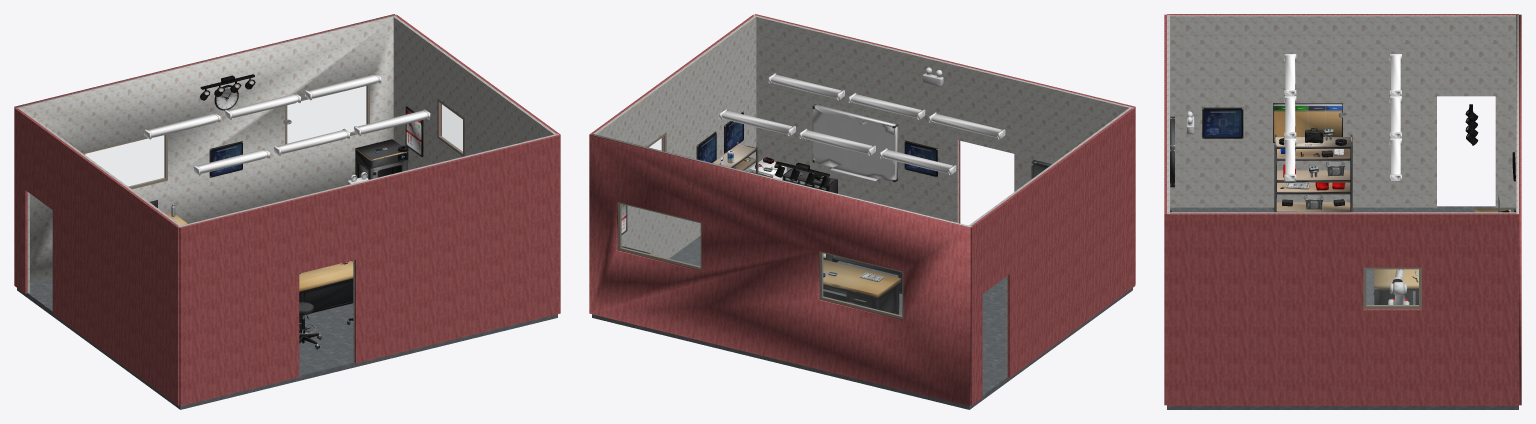
Rendered from scene_named.glb.
The picture shows the model from 3 angles, left to right: view 1: azimuth 30°, elevation 25°; view 2: azimuth 150°, elevation 25°; view 3: azimuth 270°, elevation 25°; orthographic projection. The views are drawn at different scales.
Visible parts, largest first — view 1: south_wall_exterior_lab/south_wall_exterior_lab/geometry_0, north_wall_lab/north_wall_lab/geometry_0, west_wall_exterior_lab/west_wall_exterior_lab/geometry_0, east_wall_lab/east_wall_lab/geometry_0, floor_lab, window_2_lab/window_2_lab/glass, window_1_lab/window_1_lab/glass, workbench_1, 3d_printer_cabinet_0, south_wall_lab/south_wall_lab/geometry_0, west_wall_lab/west_wall_lab/geometry_0, window_3_lab/window_3_lab/glass (+13 smaller); view 2: north_wall_exterior_lab/north_wall_exterior_lab/geometry_0, south_wall_lab/south_wall_lab/geometry_0, west_wall_exterior_lab/west_wall_exterior_lab/geometry_0, east_wall_lab/east_wall_lab/geometry_0, floor_lab, whiteboard_0, window_2_lab/window_2_lab/glass, window_1_lab/window_1_lab/glass, workbench_0, south_wall_exterior_lab/south_wall_exterior_lab/geometry_0, window_1_lab/window_1_lab/frame, batten_light_5 (+15 smaller); view 3: east_wall_exterior_lab/east_wall_exterior_lab/geometry_0, west_wall_lab/west_wall_lab/geometry_0, shelving_unit_0, floor_lab, window_3_lab/window_3_lab/glass, task_board_0, poster_5, north_wall_exterior_lab/north_wall_exterior_lab/geometry_0, south_wall_exterior_lab/south_wall_exterior_lab/geometry_0, workbench_0, west_wall_exterior_lab/west_wall_exterior_lab/geometry_0, east_wall_lab/east_wall_lab/geometry_0 (+12 smaller).
Part boxes in pixels (x1,y1,x2,y2): south_wall_exterior_lab/south_wall_exterior_lab/geometry_0: (179,135,560,406); north_wall_lab/north_wall_lab/geometry_0: (16,15,396,283); west_wall_exterior_lab/west_wall_exterior_lab/geometry_0: (14,108,179,405); east_wall_lab/east_wall_lab/geometry_0: (393,16,556,170); floor_lab: (17,278,557,409); window_2_lab/window_2_lab/glass: (287,86,366,142); window_1_lab/window_1_lab/glass: (85,135,164,186); workbench_1: (299,260,353,327); 3d_printer_cabinet_0: (355,139,408,179); south_wall_lab/south_wall_lab/geometry_0: (178,134,558,362); west_wall_lab/west_wall_lab/geometry_0: (18,108,180,292); window_3_lab/window_3_lab/glass: (440,103,462,152); north_wall_exterior_lab/north_wall_exterior_lab/geometry_0: (589,135,970,406); south_wall_lab/south_wall_lab/geometry_0: (753,15,1133,222); west_wall_exterior_lab/west_wall_exterior_lab/geometry_0: (970,108,1135,405); east_wall_lab/east_wall_lab/geometry_0: (593,16,756,258); floor_lab: (592,236,1132,409); whiteboard_0: (812,104,898,181); window_2_lab/window_2_lab/glass: (621,204,700,266); window_1_lab/window_1_lab/glass: (823,253,901,315); workbench_0: (823,259,901,314); south_wall_exterior_lab/south_wall_exterior_lab/geometry_0: (754,14,1135,284); window_1_lab/window_1_lab/frame: (819,251,903,319); batten_light_5: (848,92,925,119); east_wall_exterior_lab/east_wall_exterior_lab/geometry_0: (1167,213,1518,405); west_wall_lab/west_wall_lab/geometry_0: (1170,15,1515,207); shelving_unit_0: (1272,134,1354,212); floor_lab: (1167,206,1518,409); window_3_lab/window_3_lab/glass: (1366,269,1418,305); task_board_0: (1273,103,1342,142); poster_5: (1202,107,1243,138); north_wall_exterior_lab/north_wall_exterior_lab/geometry_0: (1519,14,1521,405); south_wall_exterior_lab/south_wall_exterior_lab/geometry_0: (1164,14,1166,405); workbench_0: (1373,269,1418,304); west_wall_exterior_lab/west_wall_exterior_lab/geometry_0: (1167,14,1518,15); east_wall_lab/east_wall_lab/geometry_0: (1170,212,1515,213).
Size of the model in its own units: 8.1 by 3.7 by 6.1.
Materials: 72 (66 with a texture image).
